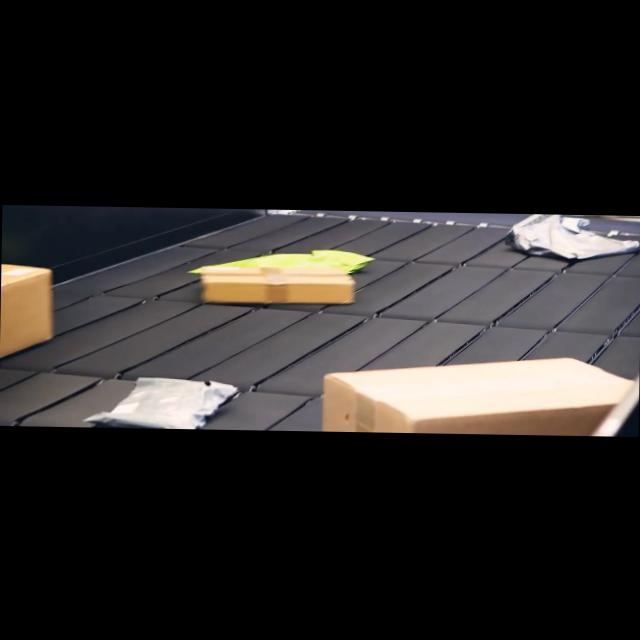box: (320, 351, 639, 437), (202, 264, 355, 303), (0, 261, 53, 359)
mailer: (88, 375, 239, 430), (505, 213, 640, 264), (190, 248, 372, 276)
